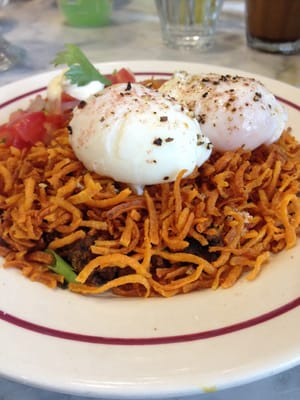pizza: (154, 0, 223, 51), (244, 0, 300, 55), (56, 0, 115, 28)
